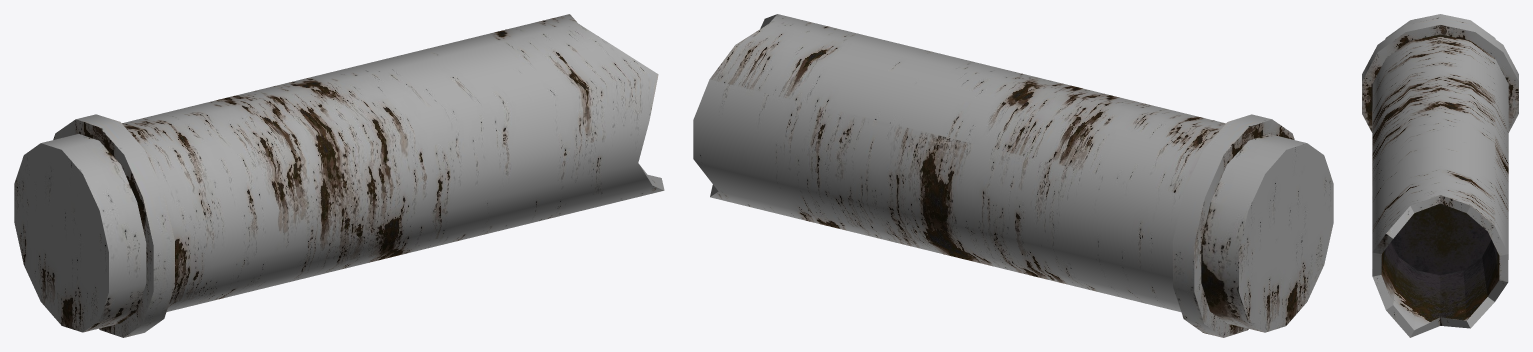
The model's file is A_BrokenPipe.fbx.
3 views of the same model, side by side, from view 1: azimuth 30°, elevation 25°; view 2: azimuth 150°, elevation 25°; view 3: azimuth 270°, elevation 25° (orthographic). The views are drawn at different scales.
Parts seen in each view (by area): view 1: A_BrokenPipe; view 2: A_BrokenPipe; view 3: A_BrokenPipe.
Part boxes in pixels (x1=…): A_BrokenPipe: x1=14, y1=14, x2=664, y2=337; A_BrokenPipe: x1=693, y1=14, x2=1333, y2=337; A_BrokenPipe: x1=1362, y1=14, x2=1518, y2=337.
Bounding box in the file's own units: 6.92 × 2.31 × 2.25.
1 material, 1 textured.
